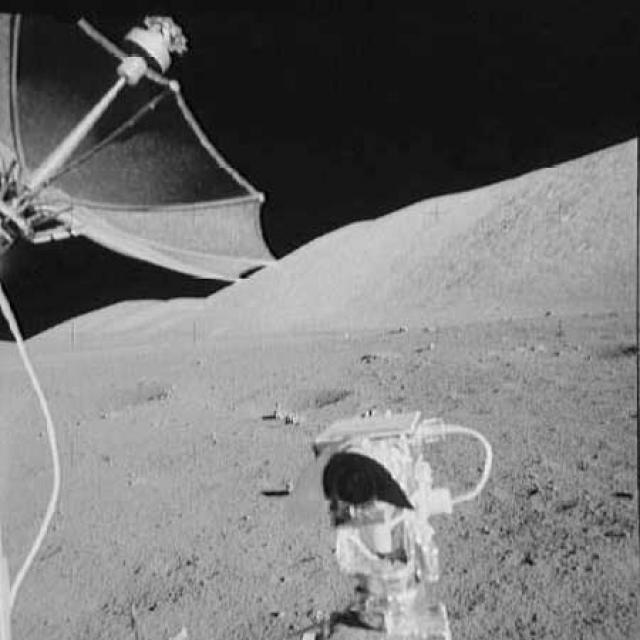artifact: (0, 1, 302, 293), (300, 415, 486, 639), (0, 294, 83, 639)
crater: (227, 375, 356, 413), (80, 376, 180, 410), (572, 332, 639, 366)
